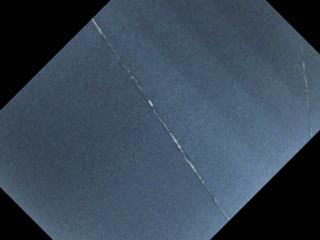crack: (86, 17, 233, 222), (293, 30, 319, 142)
